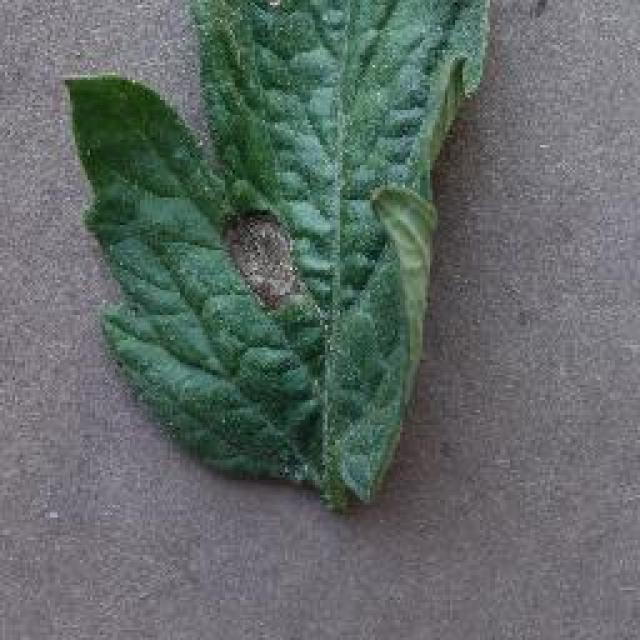Tomato___Early_blight: (58, 0, 492, 510)
